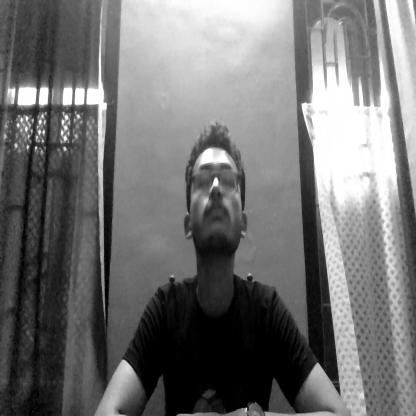Distracted: (186, 126, 250, 269)
